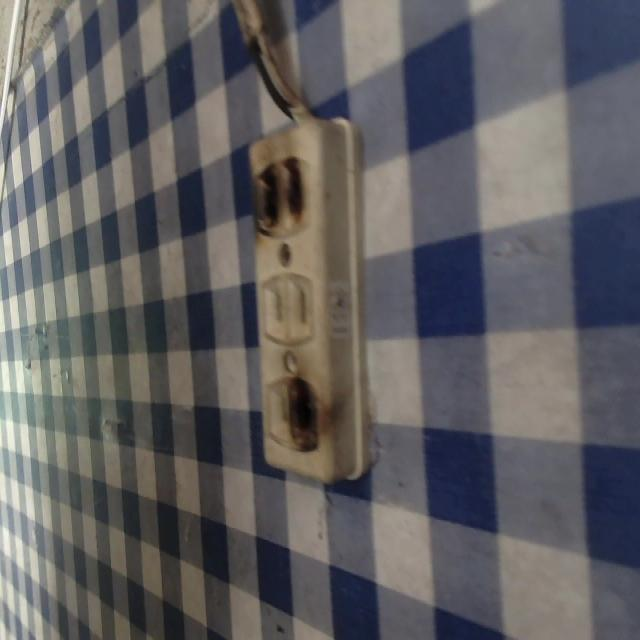-: (247, 154, 315, 242), (282, 372, 323, 457)
